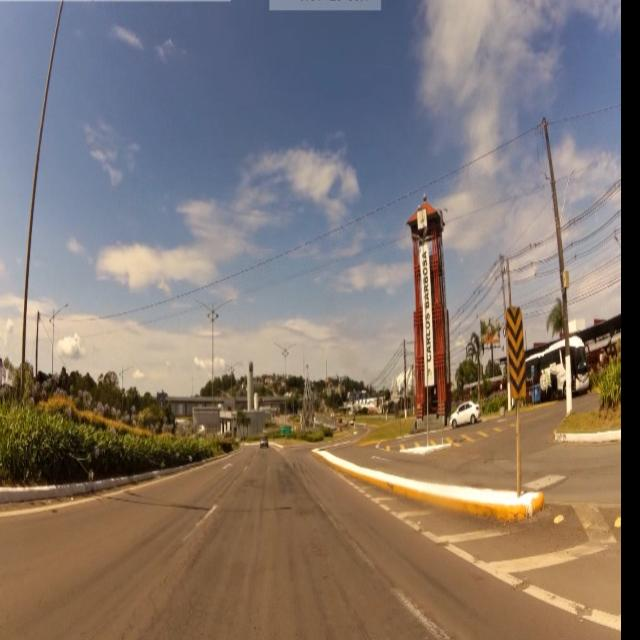MP: (506, 305, 528, 405)
